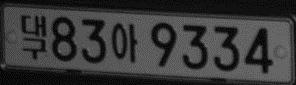3: (181, 23, 208, 68), (213, 25, 240, 70), (81, 18, 106, 63)
4: (244, 27, 273, 74)
8: (51, 15, 77, 62)
9: (150, 21, 177, 66)
대구_V: (20, 14, 47, 59)
아: (111, 22, 138, 62)
